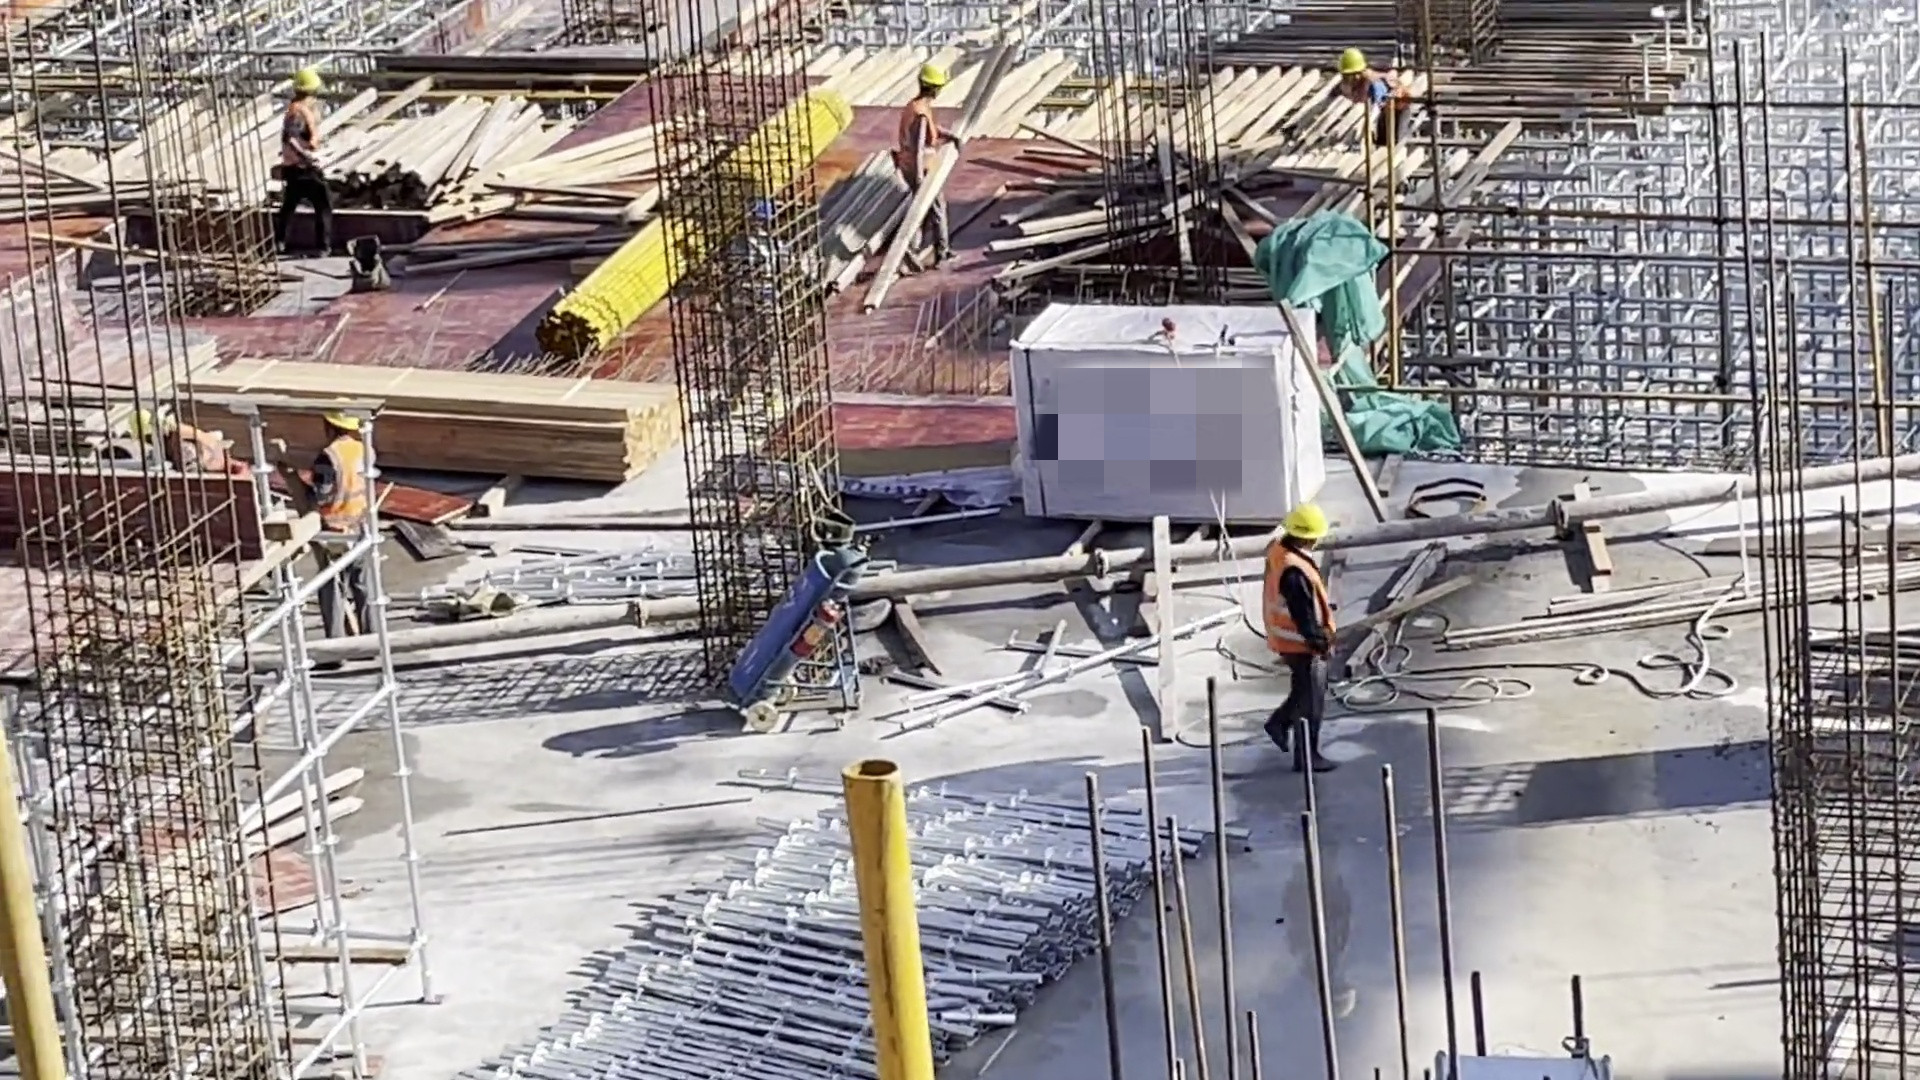helmet: (1285, 500, 1333, 542), (914, 64, 948, 98), (288, 68, 322, 95), (1336, 47, 1367, 74)
person: (1240, 503, 1357, 777), (293, 403, 392, 635), (701, 196, 801, 418), (898, 63, 964, 273), (270, 68, 328, 261), (130, 402, 233, 472)
vest: (1254, 548, 1328, 655), (320, 444, 382, 534), (901, 99, 942, 181), (277, 103, 323, 167), (169, 432, 230, 464)
